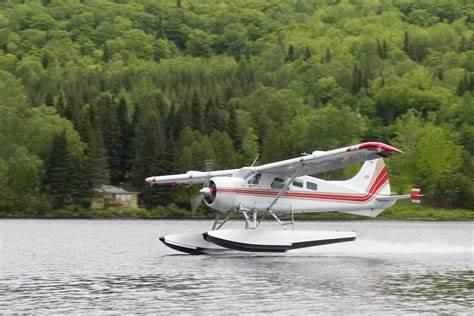Aeronef_commercial: (145, 139, 433, 254)
